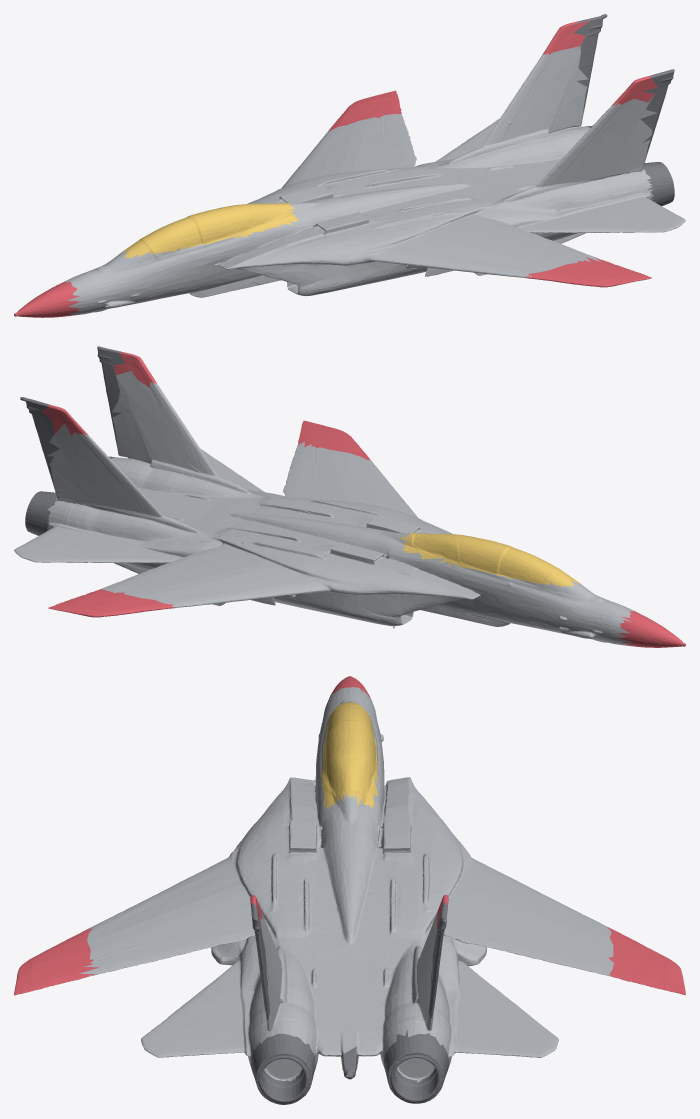
3 views of the same model, one above another, from view 1: azimuth 30°, elevation 25°; view 2: azimuth 150°, elevation 25°; view 3: azimuth 270°, elevation 25° (orthographic). The views are drawn at different scales.
Parts seen in each view (by area): view 1: PLS_BODY, PLS_TRIM, PLS_CANOPY, PLS_ENGINE; view 2: PLS_BODY, PLS_TRIM, PLS_CANOPY, PLS_ENGINE; view 3: PLS_BODY, PLS_ENGINE, PLS_TRIM, PLS_CANOPY.
Part boxes in pixels (x1,y1,x2,y2): PLS_BODY: [63, 46, 685, 316]; PLS_TRIM: [14, 20, 657, 317]; PLS_CANOPY: [122, 203, 300, 257]; PLS_ENGINE: [574, 14, 674, 206]; PLS_BODY: [14, 371, 635, 646]; PLS_TRIM: [41, 352, 685, 647]; PLS_CANOPY: [398, 533, 579, 586]; PLS_ENGINE: [20, 346, 125, 535]; PLS_BODY: [80, 687, 614, 1082]; PLS_ENGINE: [250, 902, 448, 1104]; PLS_TRIM: [14, 676, 685, 995]; PLS_CANOPY: [320, 702, 379, 809].
Size of the model in its own units: 1.9 by 0.4835 by 1.34.
